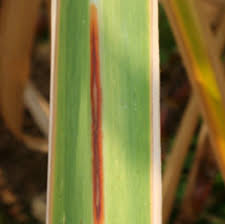Red-Rot: (86, 0, 105, 224)
